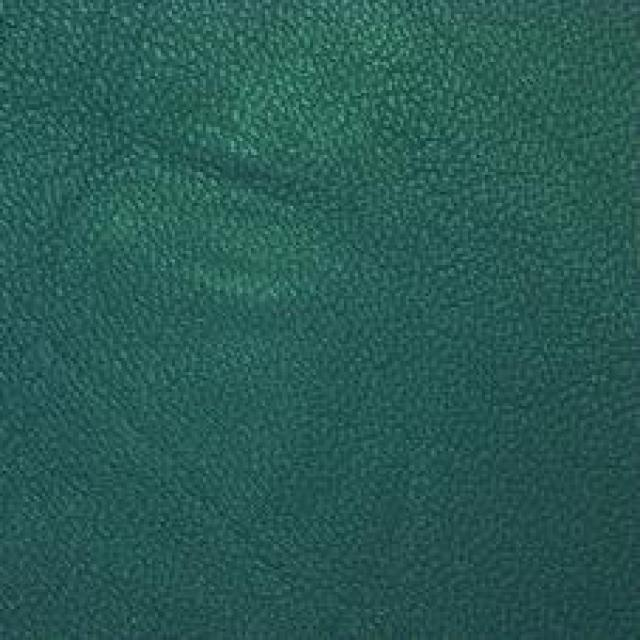Growth Marks: (85, 101, 340, 336)
